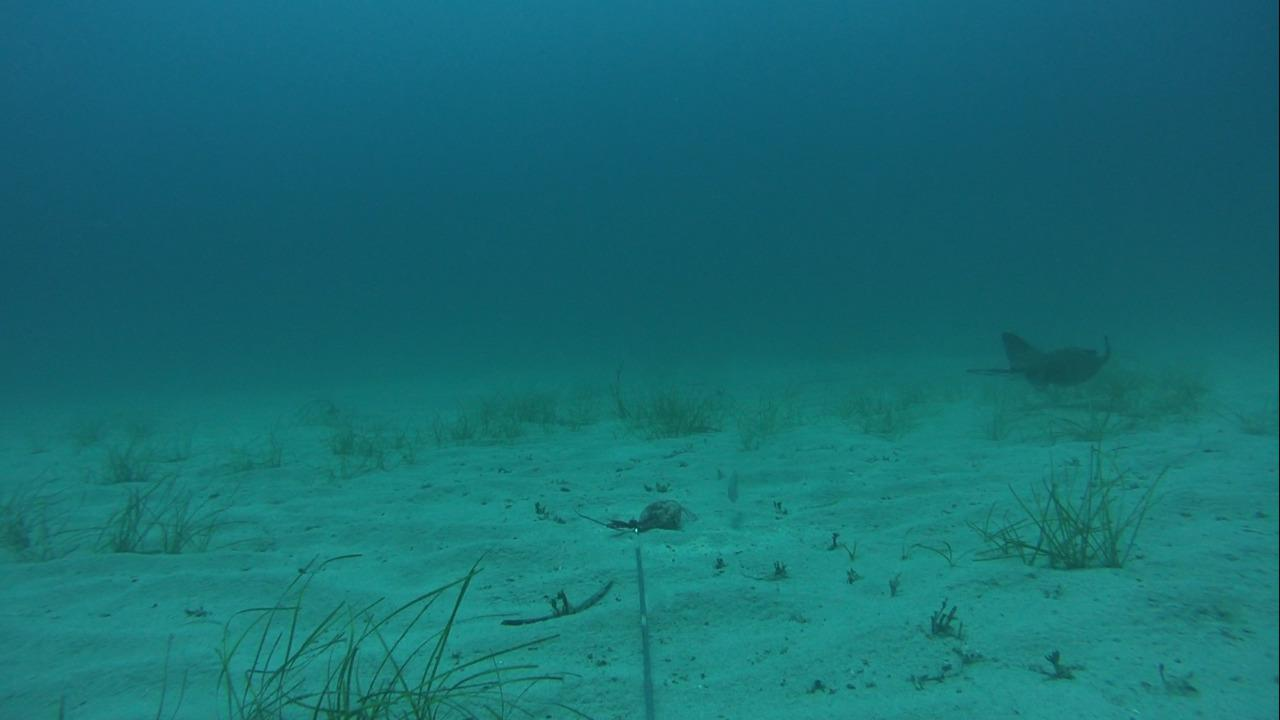myliobatis: (948, 326, 1118, 397)
raor: (714, 456, 750, 506)
